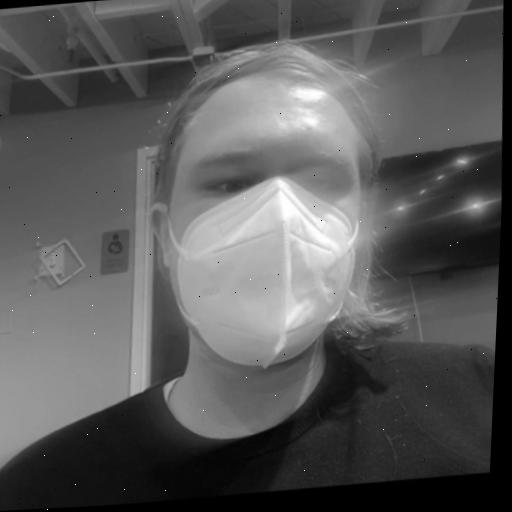mask: (83, 24, 420, 459)
